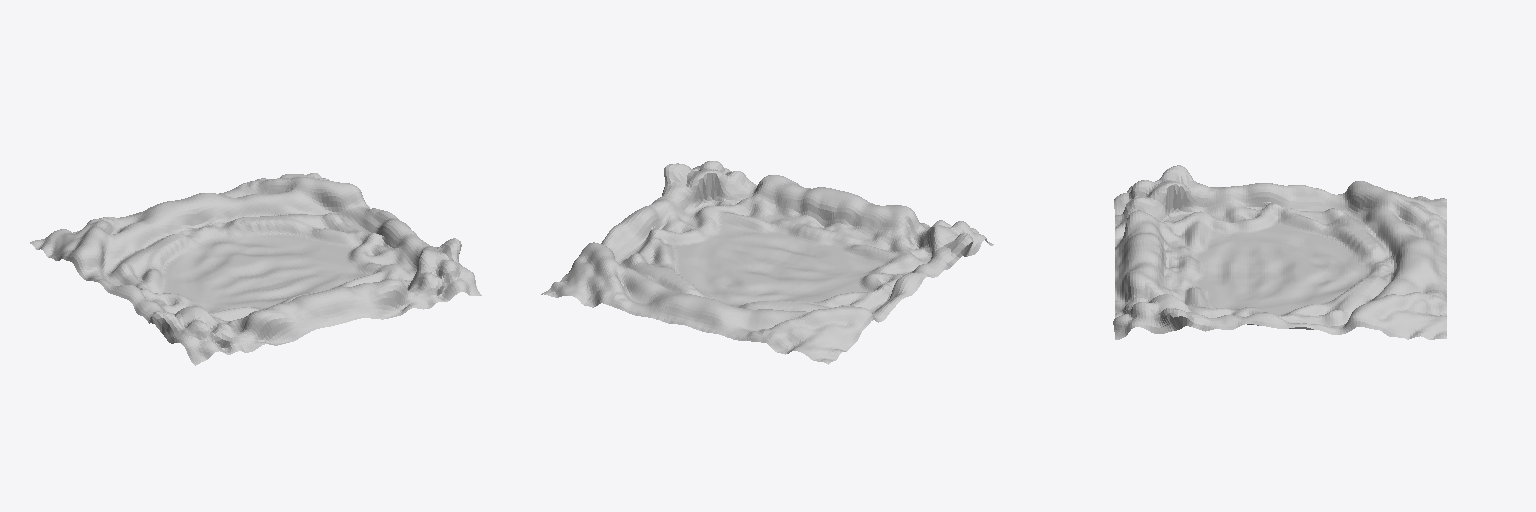
The model's file is land.obj.
The picture shows the model from 3 angles: view 1: azimuth 30°, elevation 25°; view 2: azimuth 150°, elevation 25°; view 3: azimuth 270°, elevation 25°; orthographic projection.
Parts seen in each view (by area): view 1: Plane; view 2: Plane; view 3: Plane.
Part boxes in pixels (bbox=[...]): Plane: bbox=[30, 173, 481, 365]; Plane: bbox=[541, 161, 993, 364]; Plane: bbox=[1113, 165, 1446, 339].
Size of the model in its own units: 253 by 28.31 by 238.